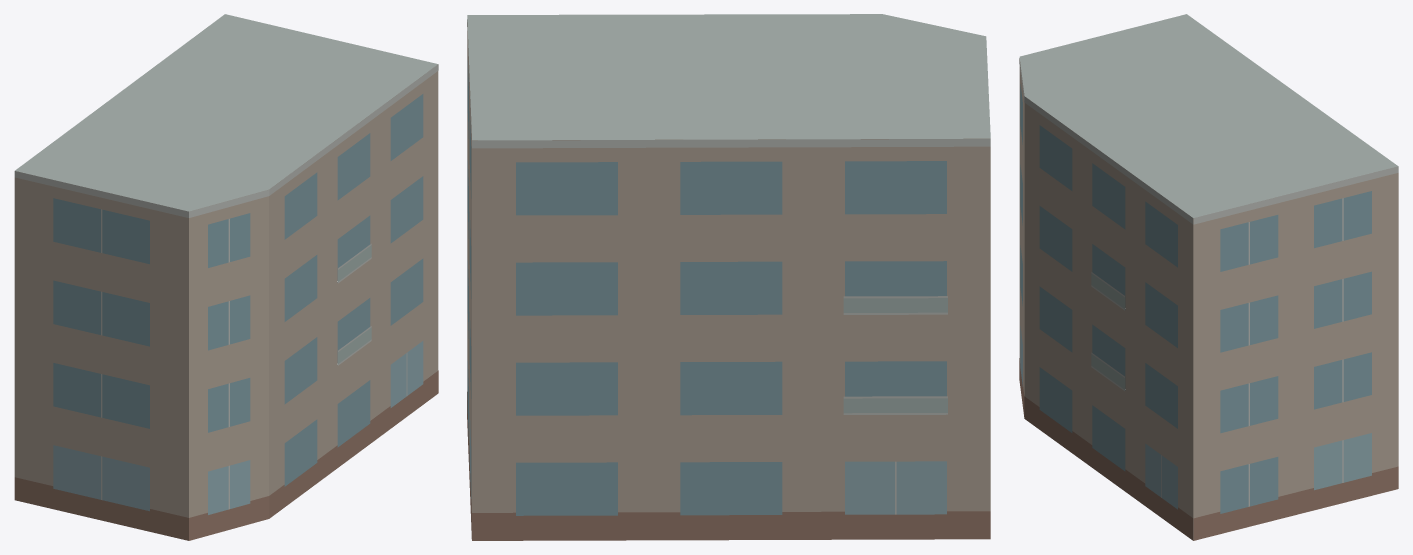
Rendered from survey-upis-33020163.glb.
3 renders of one model, left to right at view 1: azimuth 30°, elevation 25°; view 2: azimuth 150°, elevation 25°; view 3: azimuth 270°, elevation 25°, orthographic. The views are drawn at different scales.
Parts seen in each view (by area): view 1: survey-upis-33020163.tmp; view 2: survey-upis-33020163.tmp; view 3: survey-upis-33020163.tmp.
Part boxes in pixels (left/top/right/bottom): survey-upis-33020163.tmp: left=14, top=14, right=438, bottom=540; survey-upis-33020163.tmp: left=467, top=14, right=990, bottom=540; survey-upis-33020163.tmp: left=1019, top=14, right=1398, bottom=540.
Size of the model in its own units: 16.57 by 12.2 by 13.
